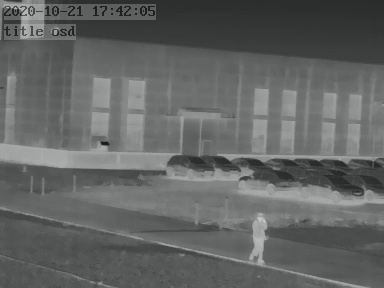person: (249, 211, 268, 265)
vehicle: (302, 170, 362, 198), (238, 169, 303, 191), (164, 153, 213, 179), (203, 153, 242, 177), (349, 173, 383, 200), (232, 154, 270, 172), (262, 155, 296, 170), (347, 156, 380, 170), (295, 155, 324, 169), (318, 156, 347, 170)
